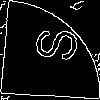S: (25, 25, 79, 63)
